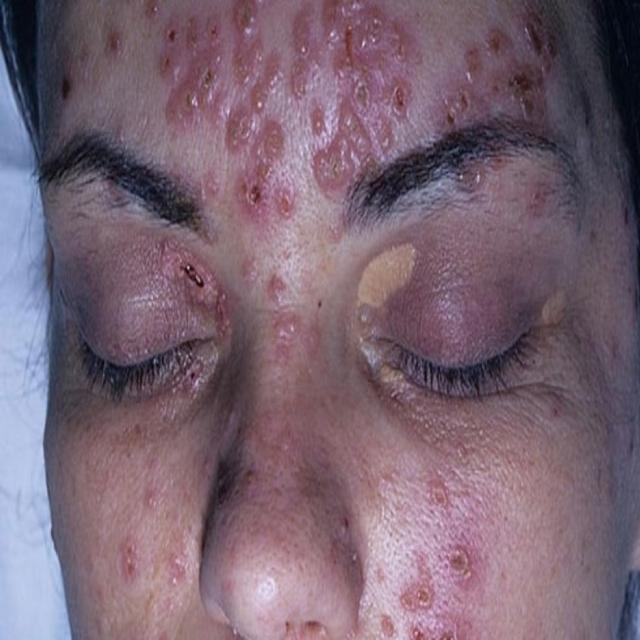Shingles: (104, 4, 559, 219), (373, 541, 476, 640), (108, 484, 187, 588), (243, 252, 312, 356), (153, 229, 228, 310)
